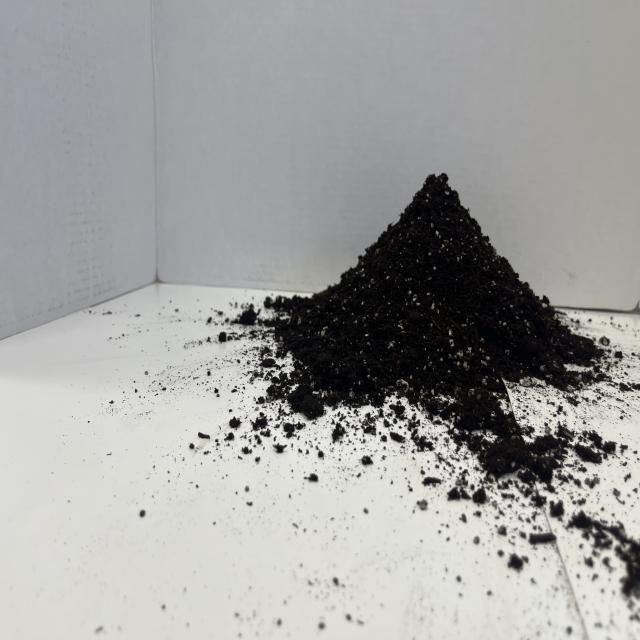soil: (223, 121, 609, 494)
